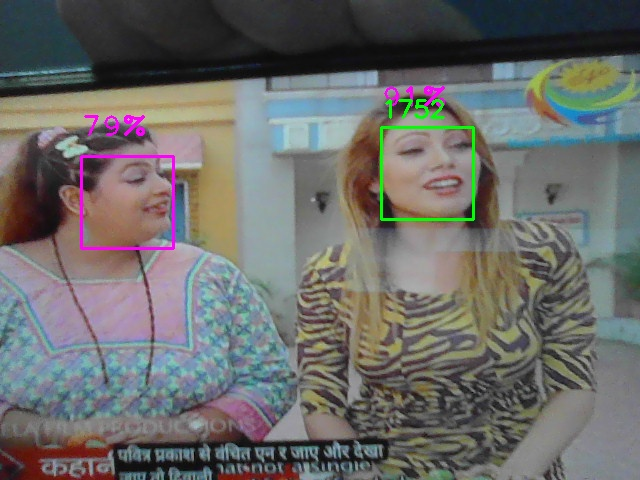fake: (381, 127, 474, 220)
